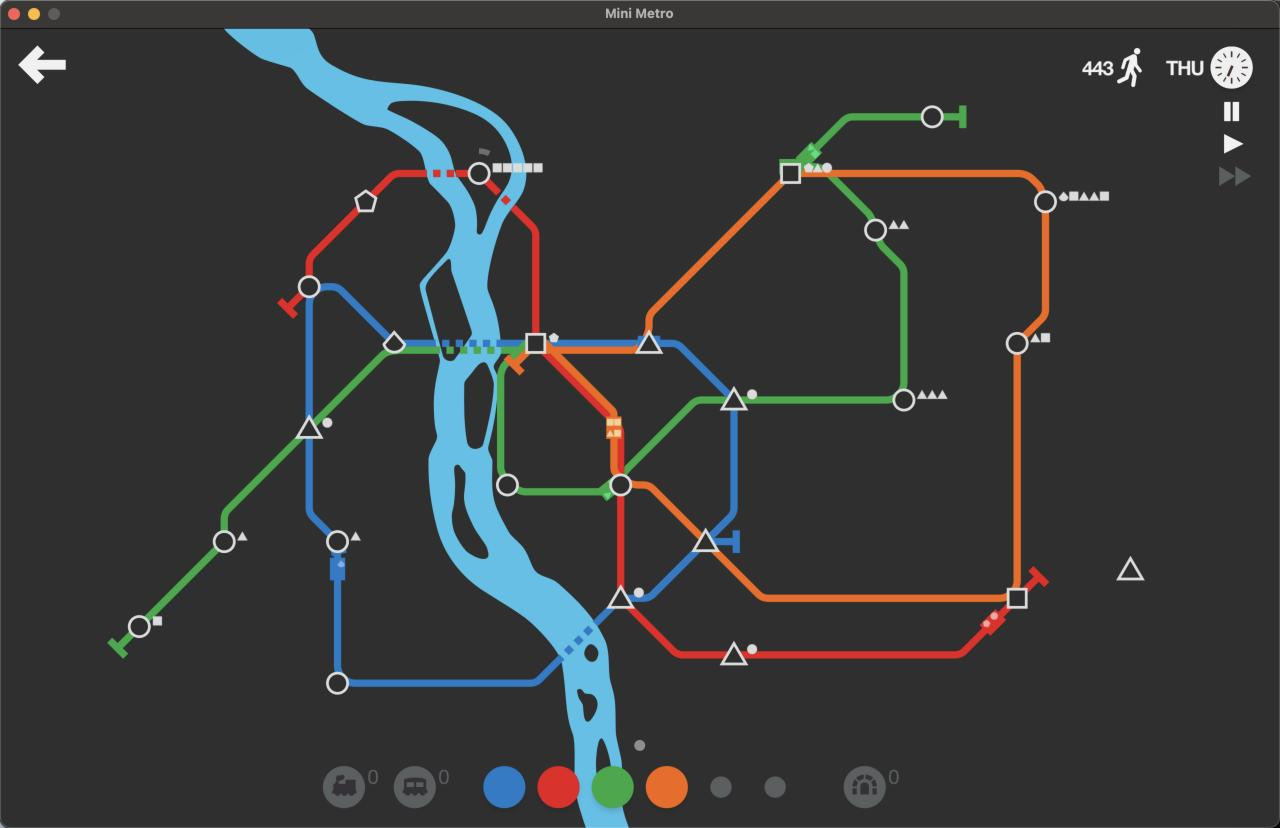CIRCLE: (325, 529, 350, 554), (608, 472, 633, 497), (1005, 331, 1030, 356), (920, 104, 944, 129), (127, 614, 151, 639), (1033, 190, 1058, 214), (212, 530, 236, 554), (864, 218, 888, 242), (495, 473, 519, 497), (892, 388, 916, 412), (326, 671, 349, 696), (467, 162, 491, 185), (298, 274, 321, 298)
PENTAGON: (354, 189, 377, 213)
SQUARE: (525, 331, 547, 354), (779, 161, 801, 184), (1006, 587, 1028, 610)
TRIANGLE: (1115, 554, 1146, 583), (692, 527, 721, 554), (606, 585, 636, 611), (720, 640, 748, 667), (719, 386, 748, 412), (295, 415, 323, 441), (635, 330, 664, 355)
WEDGE: (382, 330, 406, 354)
